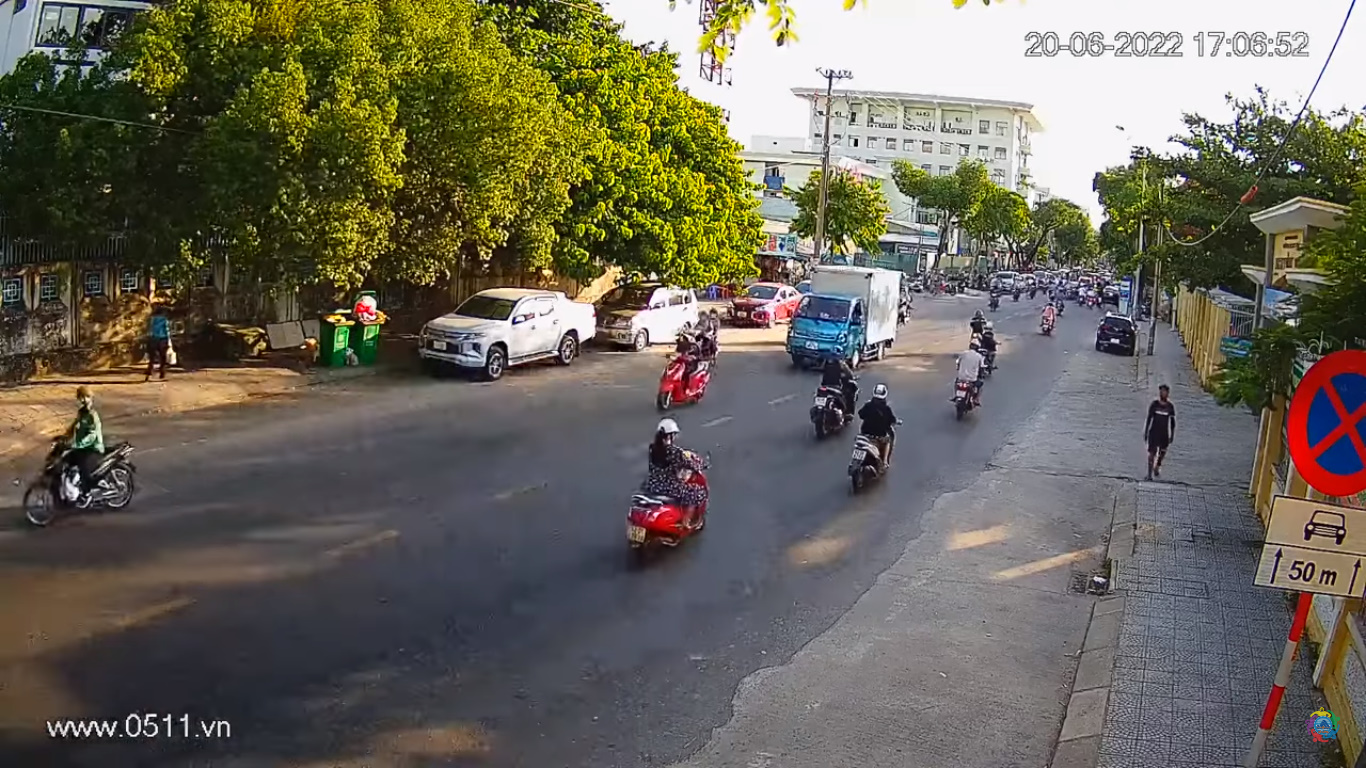truck: (782, 262, 905, 369)
